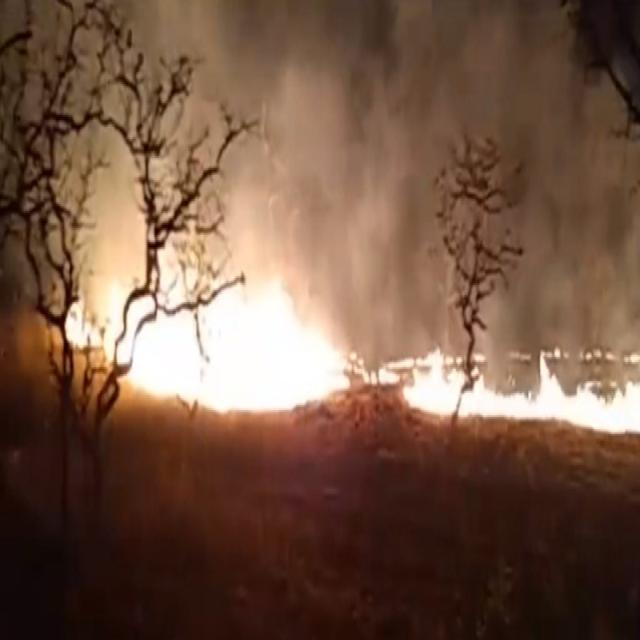Fire: (78, 282, 400, 408), (411, 360, 640, 444), (474, 329, 640, 369)
Smoke: (288, 7, 633, 286)
